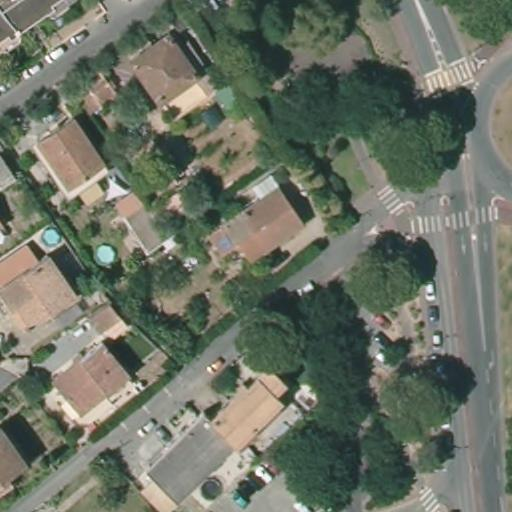pool: (35, 223, 66, 247), (92, 241, 118, 266)
